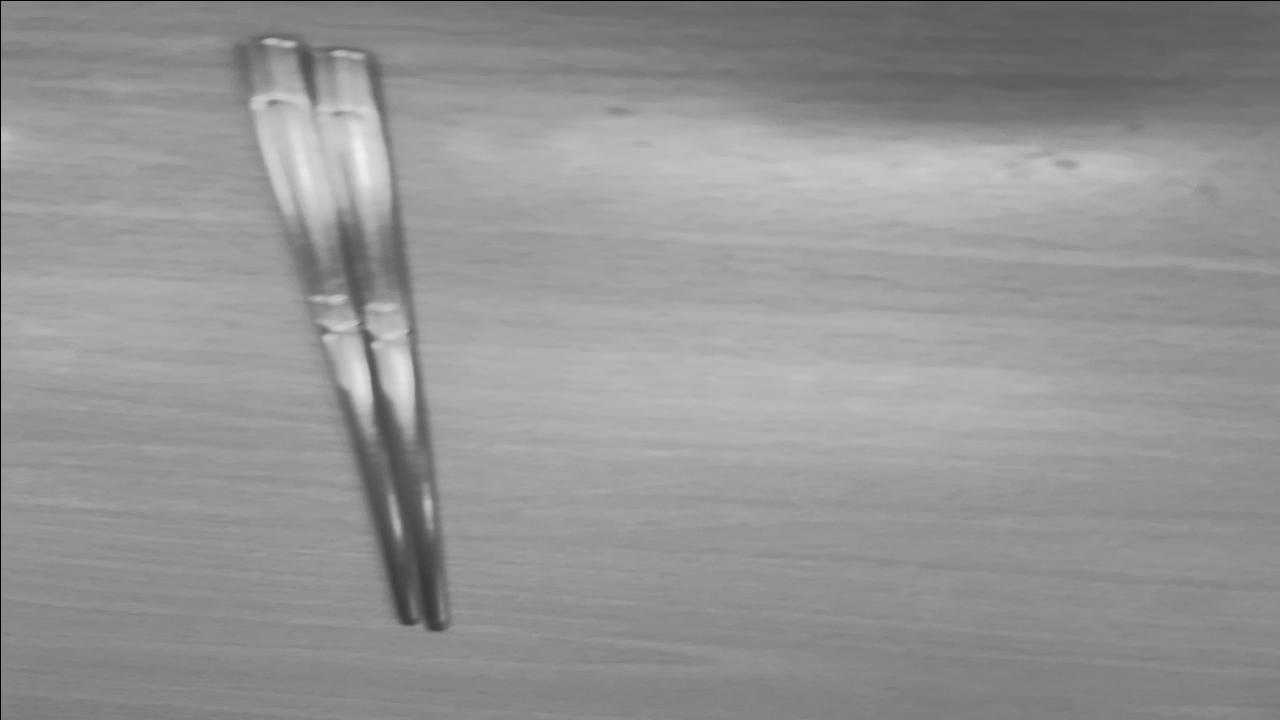chopstick: (243, 37, 442, 630)
